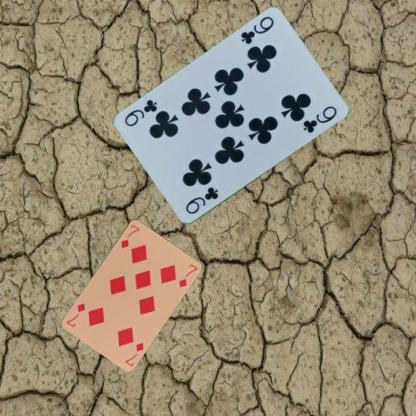7d: (118, 222, 141, 249), (122, 340, 145, 367)
9c: (183, 184, 220, 216), (238, 14, 275, 46)
